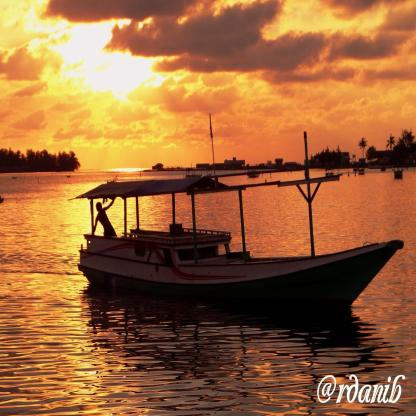fishing boat: (69, 170, 405, 322)
